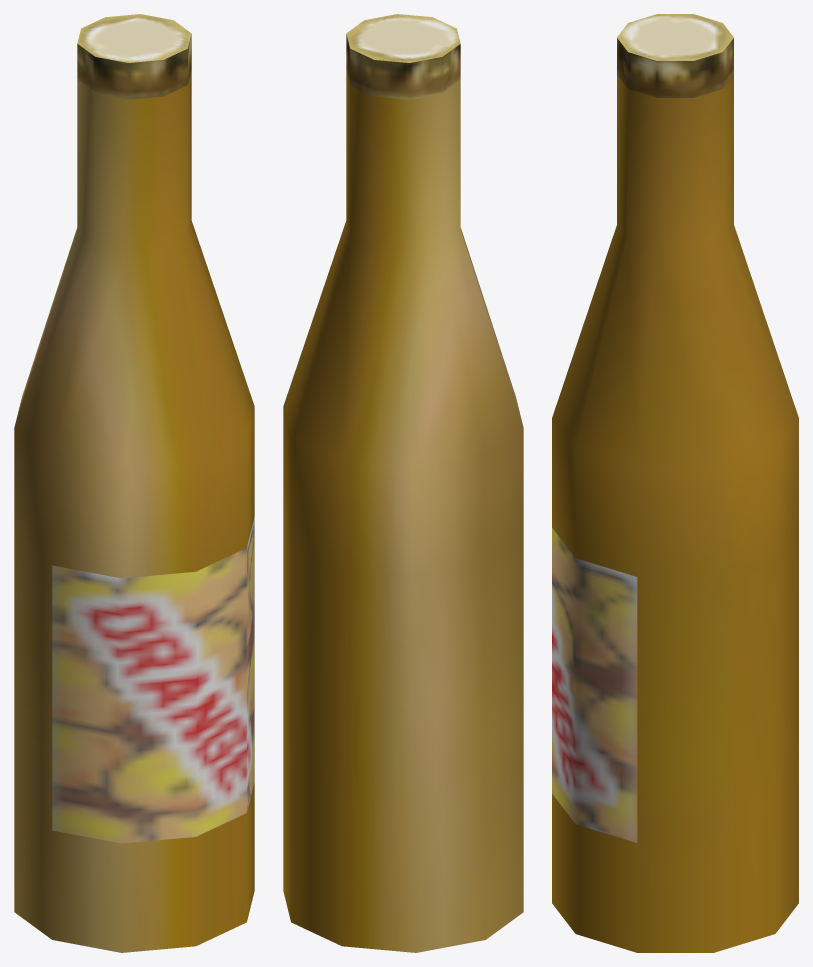
File: giftgoods081b.fbx
The picture shows the model from 3 angles, left to right: view 1: azimuth 30°, elevation 25°; view 2: azimuth 150°, elevation 25°; view 3: azimuth 270°, elevation 25°; orthographic projection.
Parts seen in each view (by area): view 1: giftgoods081b; view 2: giftgoods081b; view 3: giftgoods081b.
Boxes of the visible parts, x1=… form: giftgoods081b: x1=14, y1=14, x2=254, y2=952; giftgoods081b: x1=283, y1=14, x2=523, y2=952; giftgoods081b: x1=552, y1=14, x2=798, y2=952.
Bounding box in the file's own units: 0.0797 × 0.3241 × 0.0838.
